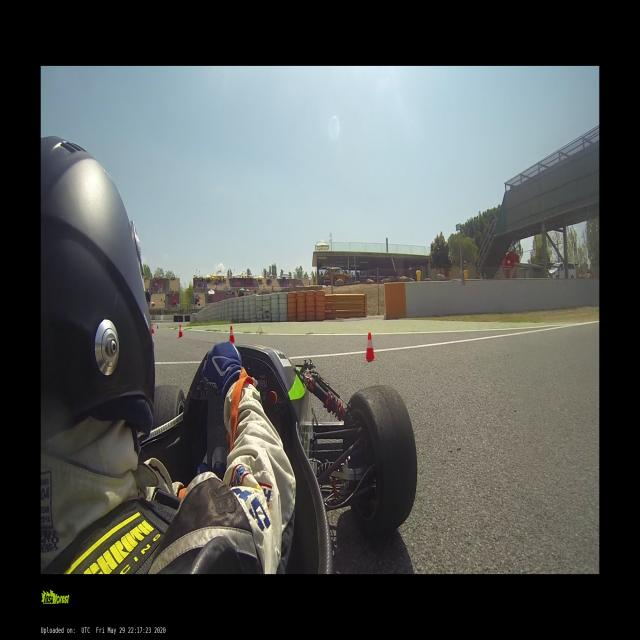orange_cone: (364, 332, 376, 360), (230, 326, 234, 342), (179, 324, 183, 338), (151, 323, 155, 334)
